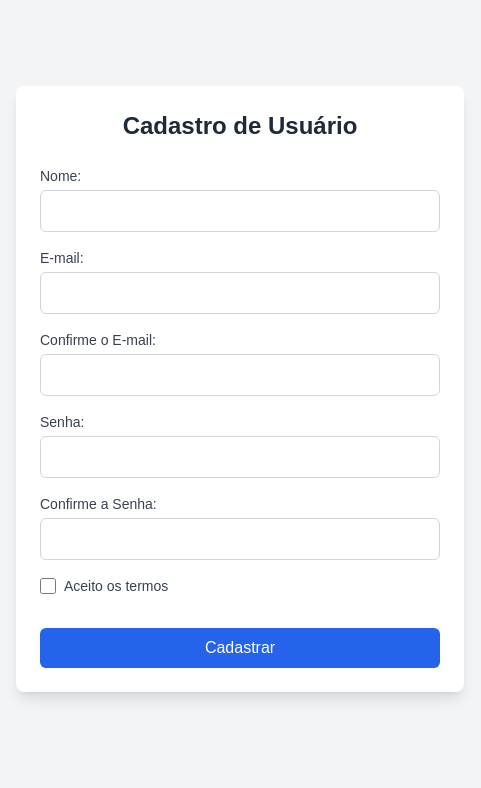
Teste de Cadastro de Usuário › Deve exibir mensagens de erro ao tentar enviar o formulário vazio
What coordinates should you click on to do the following:
click the submit button
I would click on:
 (240, 648)
Its box is [40, 628, 440, 668].
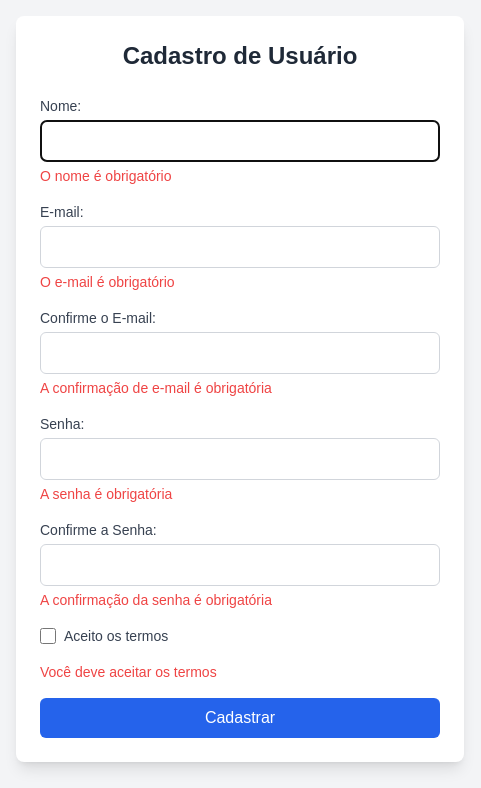
Now the text "O nome é obrigatório" is shown, box [40, 168, 172, 184]
Now the text "O e-mail é obrigatório" is shown, box [40, 274, 175, 290]
Now the text "A confirmação de e-mail é obrigatória" is shown, box [40, 380, 272, 396]
